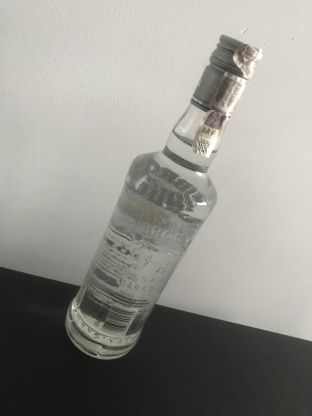nakretka: (188, 32, 264, 121)
